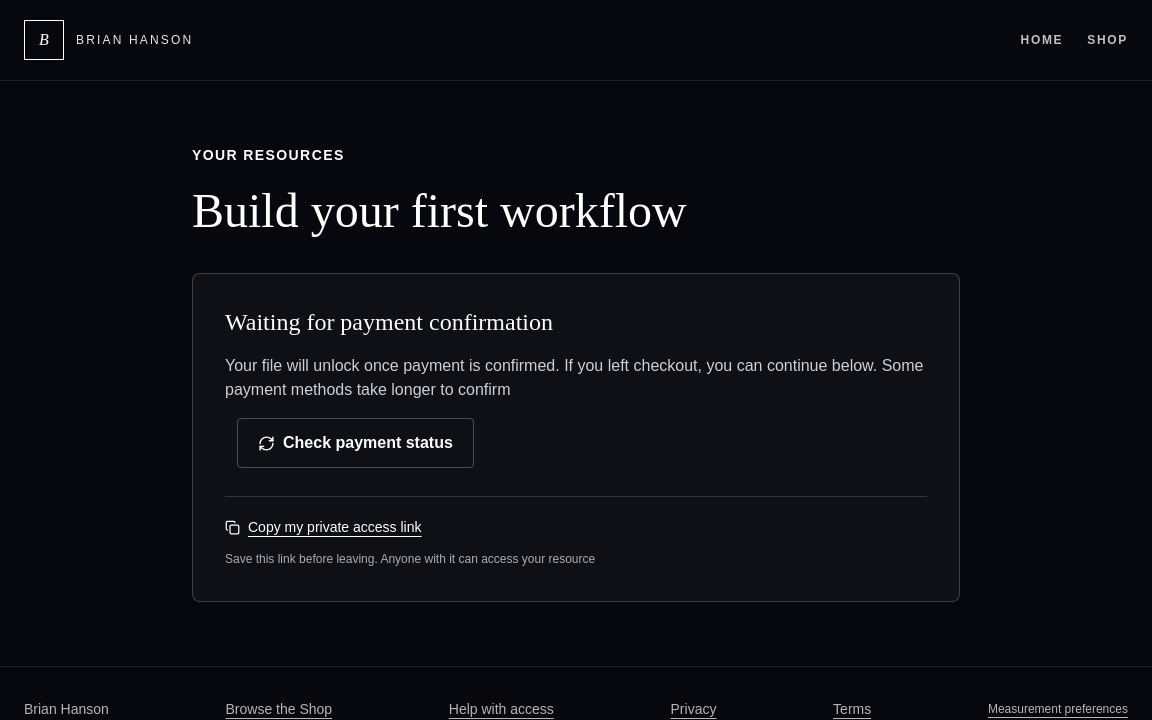
offer visitor journey › ignores a manual refresh that resolves after navigation to another resource
Click the button "Check payment status" at x=355, y=443, box [237,418,474,468]
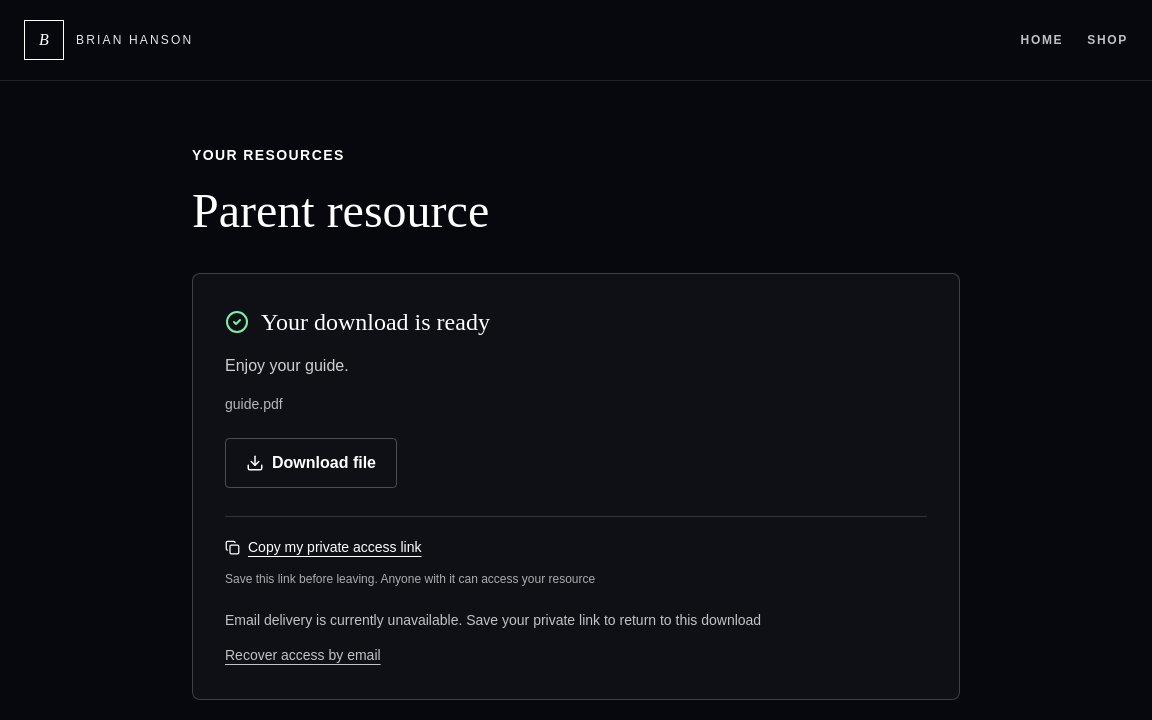
Expected: the heading "Parent resource" is shown, [192,184,489,237]
